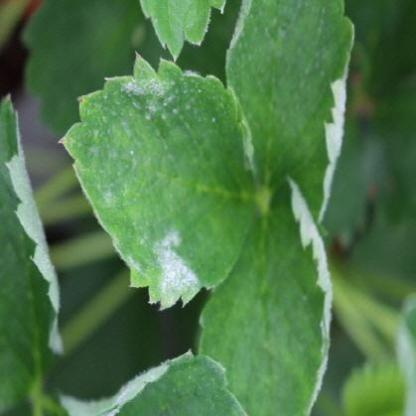Strawberry_Powdery_Mildew_Leaf: (54, 50, 259, 312), (196, 176, 334, 416), (224, 0, 356, 239), (0, 92, 67, 388), (59, 348, 249, 416)
